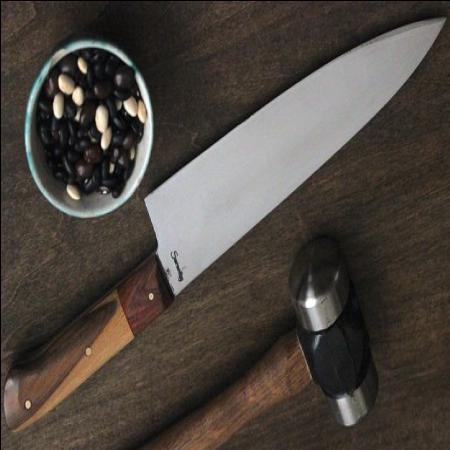long weapon: (141, 12, 448, 306)
